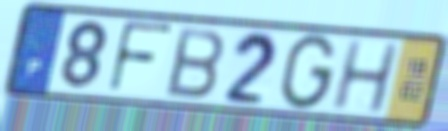2: (216, 27, 283, 111)
8: (58, 18, 111, 92)
B: (164, 25, 228, 101)
F: (105, 19, 176, 97)
G: (276, 31, 339, 113)
H: (328, 39, 402, 116)
